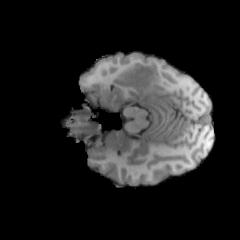glioma: (114, 65, 162, 96)
